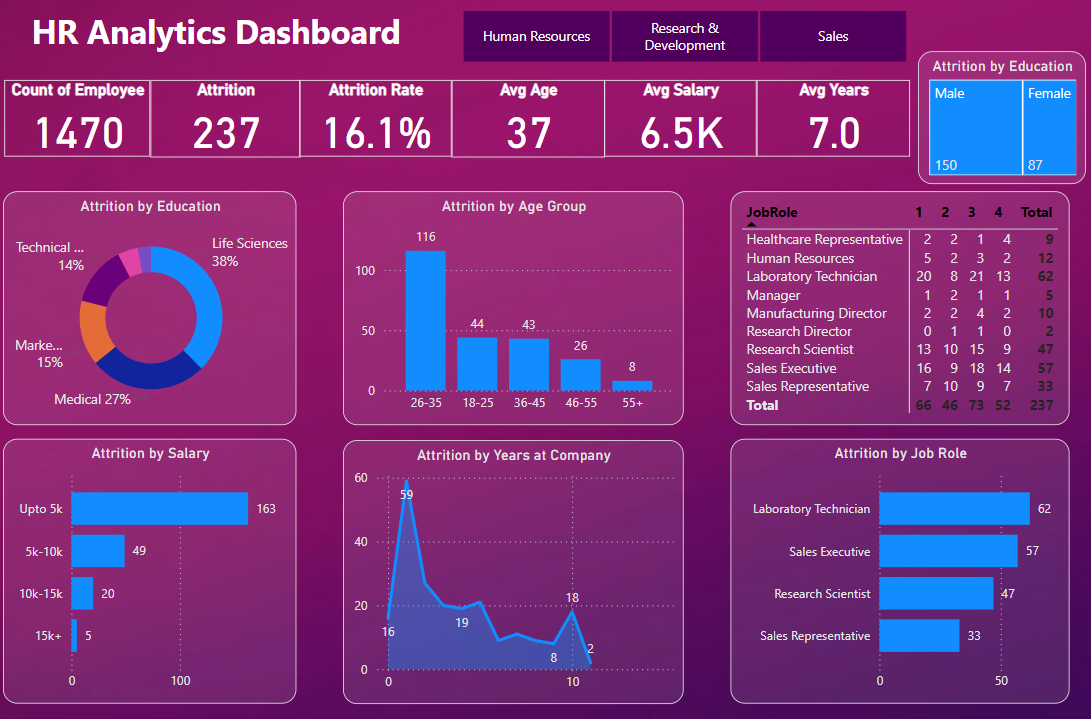

Layout of this report page (visuals, bound fields, positions):
{"tool":"powerbi","page":{"name":"Page 1","canvas":[1280,720],"ordinal":0},"visuals":[{"type":"card","title":"Count of Employee","fields":{"Values":["Sum(HR_Analytics.EmployeeCount)"]},"box":[10.6,88.2,143.5,75.3],"z":0},{"type":"card","title":"Attrition Rate","fields":{"Values":["HR_Analytics.AttritionRate"]},"box":[301.2,88.2,149.4,75.3],"z":1000},{"type":"card","title":"Attrition","fields":{"Values":["Sum(HR_Analytics.AttritionCount)"]},"box":[154,88,147,76],"z":2000},{"type":"card","title":"Avg Age","fields":{"Values":["Avg(HR_Analytics.Age)"]},"box":[450,88,150,76],"z":3000},{"type":"card","title":"Avg Years","fields":{"Values":["Avg(HR_Analytics.YearsAtCompany)"]},"box":[749.4,88.2,150.6,75.3],"z":4000},{"type":"card","title":"Avg Salary","fields":{"Values":["Avg(HR_Analytics.MonthlyIncome)"]},"box":[600,88.2,149.4,75.3],"z":5000},{"type":"donutChart","title":"Attrition by Education","fields":{"Category":["HR_Analytics.EducationField"],"Y":["Sum(HR_Analytics.AttritionCount)"]},"box":[9.4,197.6,288.2,229.4],"z":6000},{"type":"columnChart","title":"Attrition by Age Group","fields":{"Category":["HR_Analytics.AgeGroup"],"Y":["Sum(HR_Analytics.AttritionCount)"]},"box":[343.5,197.6,334.1,229.4],"z":7000},{"type":"pivotTable","fields":{"Rows":["HR_Analytics.JobRole"],"Columns":["HR_Analytics.JobSatisfaction"],"Values":["Sum(HR_Analytics.AttritionCount)"]},"box":[723.5,197.6,332.9,229.4],"z":8000},{"type":"barChart","title":"Attrition by Salary","fields":{"Category":["HR_Analytics.SalarySlab"],"Y":["Sum(HR_Analytics.AttritionCount)"]},"box":[9.4,440,288.2,260],"z":8001},{"type":"barChart","title":"Attrition by Job Role","fields":{"Y":["Sum(HR_Analytics.AttritionCount)"],"Category":["HR_Analytics.JobRole"]},"box":[723.5,440,332.9,260],"z":8002},{"type":"areaChart","title":"Attrition by Years at Company","fields":{"Y":["Sum(HR_Analytics.AttritionCount)"],"Category":["HR_Analytics.YearsAtCompany"]},"box":[343.5,441.2,334.1,258.8],"z":8003},{"type":"treemap","title":"Attrition by Education","fields":{"Group":["HR_Analytics.Gender"],"Values":["Sum(HR_Analytics.AttritionCount)"]},"box":[908.2,60,164.7,130.6],"z":8004},{"type":"slicer","fields":{"Values":["HR_Analytics.Department"]},"box":[436,14,485,64],"z":8005},{"type":"textbox","box":[11,14,416,64],"z":8007}]}

Visuals, with their boxes on the page's 1280x720 design canvas (x1, y1, x2, y2). These are canvas units, not pixel positions in the 1091x719 screenshot, which may show the page scaled, cropped or inside an application window:
"Count of Employee" card: crop(11, 88, 154, 164)
"Attrition Rate" card: crop(301, 88, 451, 164)
"Attrition" card: crop(154, 88, 301, 164)
"Avg Age" card: crop(450, 88, 600, 164)
"Avg Years" card: crop(749, 88, 900, 164)
"Avg Salary" card: crop(600, 88, 749, 164)
"Attrition by Education" donutChart: crop(9, 198, 298, 427)
"Attrition by Age Group" columnChart: crop(344, 198, 678, 427)
pivotTable - HR_Analytics.JobRole x HR_Analytics.JobSatisfaction: crop(724, 198, 1056, 427)
"Attrition by Salary" barChart: crop(9, 440, 298, 700)
"Attrition by Job Role" barChart: crop(724, 440, 1056, 700)
"Attrition by Years at Company" areaChart: crop(344, 441, 678, 700)
"Attrition by Education" treemap: crop(908, 60, 1073, 191)
slicer - HR_Analytics.Department: crop(436, 14, 921, 78)
textbox: crop(11, 14, 427, 78)
